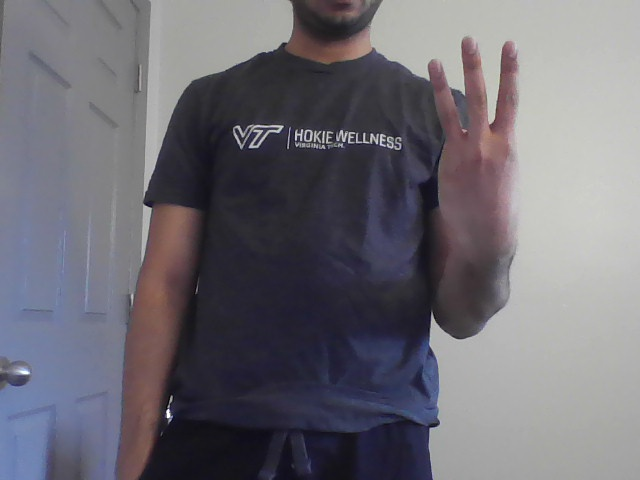three: (423, 31, 531, 207)
